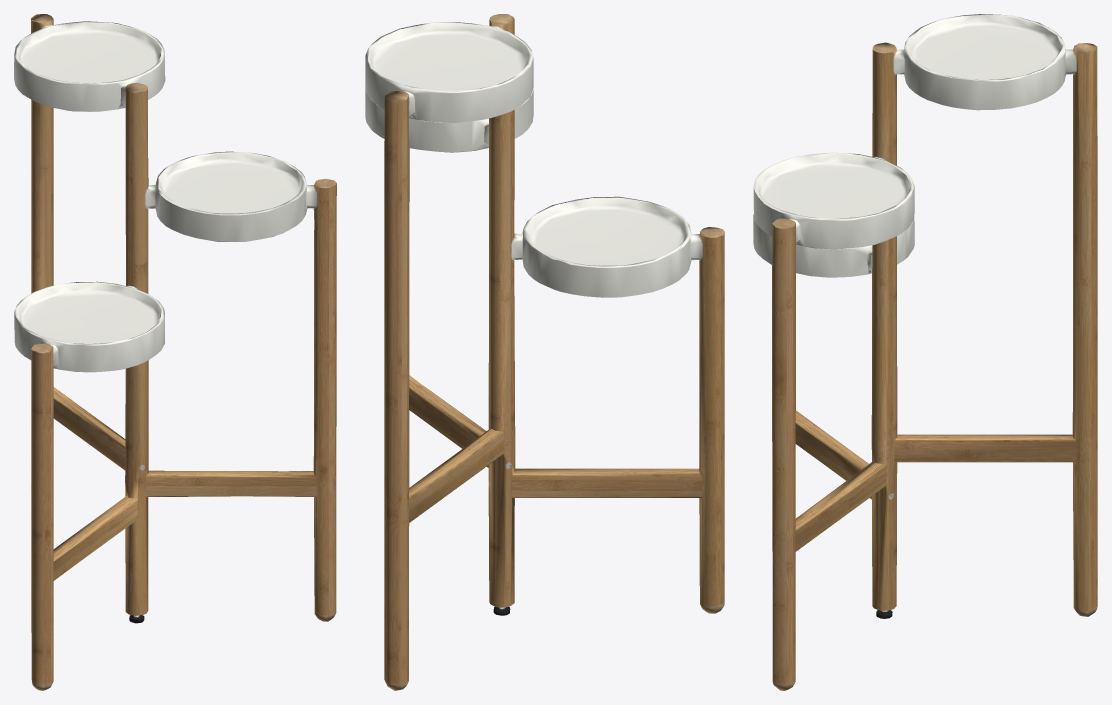
File: satsumas_stojak_na_doniczke_40258154.glb
3 renders of one model, left to right at view 1: azimuth 30°, elevation 25°; view 2: azimuth 150°, elevation 25°; view 3: azimuth 270°, elevation 25°, orthographic. The views are drawn at different scales.
Visible parts, largest first — view 1: satsumas_stojak_na_doniczke_40258154; view 2: satsumas_stojak_na_doniczke_40258154; view 3: satsumas_stojak_na_doniczke_40258154.
Boxes of the visible parts, x1,y1,x2,y2 form: satsumas_stojak_na_doniczke_40258154: [14, 14, 336, 690]; satsumas_stojak_na_doniczke_40258154: [365, 14, 724, 690]; satsumas_stojak_na_doniczke_40258154: [753, 14, 1097, 690].
Bounding box in the file's own units: 0.4634 × 0.7804 × 0.4278.
Materials: 1 (1 with a texture image).
